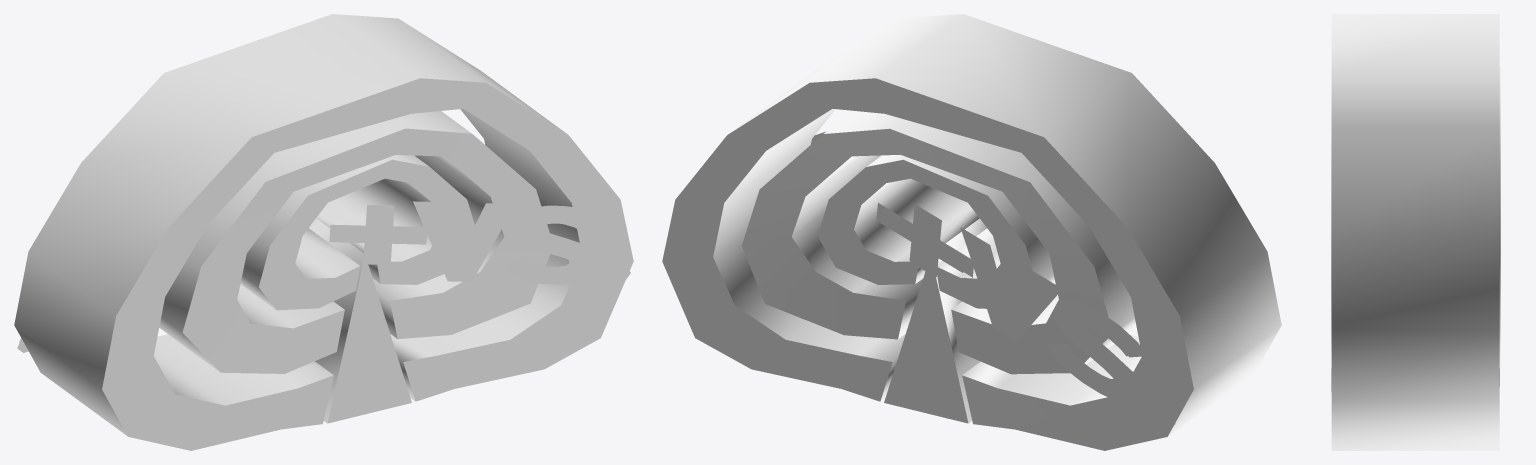
Rendered from fanta3.ico.obj.
3 views of the same model, side by side, from view 1: azimuth 30°, elevation 25°; view 2: azimuth 150°, elevation 25°; view 3: azimuth 270°, elevation 25° (orthographic). The views are drawn at different scales.
Size of the model in its own units: 4.12 by 2.39 by 1.48.
Materials: 1 (1 with a texture image).
